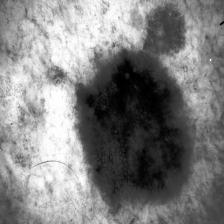Benign Marking or Mole: (74, 52, 190, 207), (142, 3, 184, 52)
